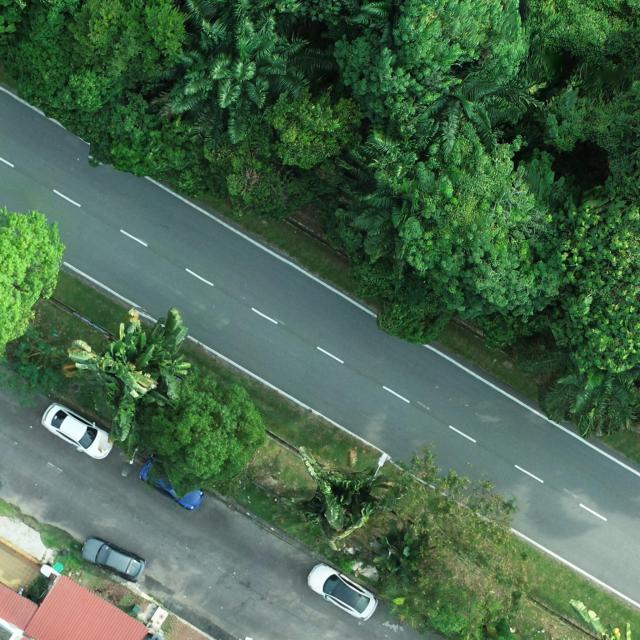Tree: (400, 135, 582, 322), (370, 443, 530, 640), (150, 0, 340, 145), (334, 0, 528, 120), (4, 0, 193, 118), (201, 91, 366, 219), (548, 179, 640, 376), (63, 306, 194, 444), (140, 364, 268, 496), (56, 88, 205, 200), (406, 51, 549, 166), (334, 131, 454, 266), (289, 444, 409, 552), (514, 344, 640, 438), (0, 205, 68, 363), (372, 519, 435, 596)
